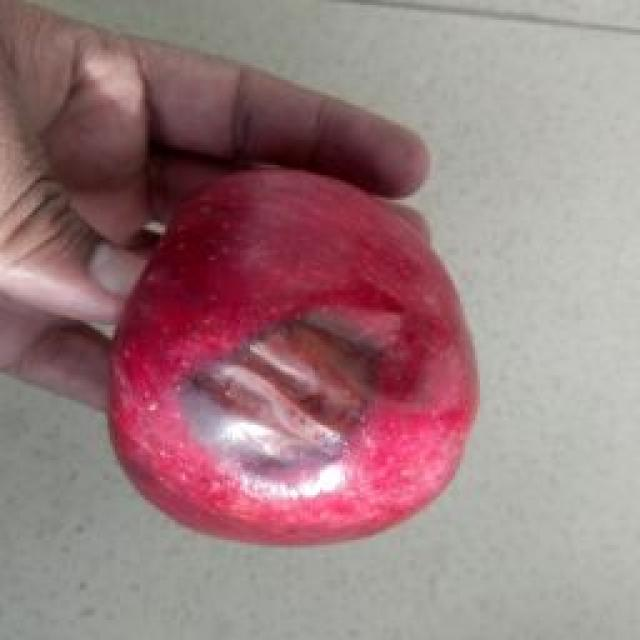Bad_Apple: (110, 169, 478, 543)
